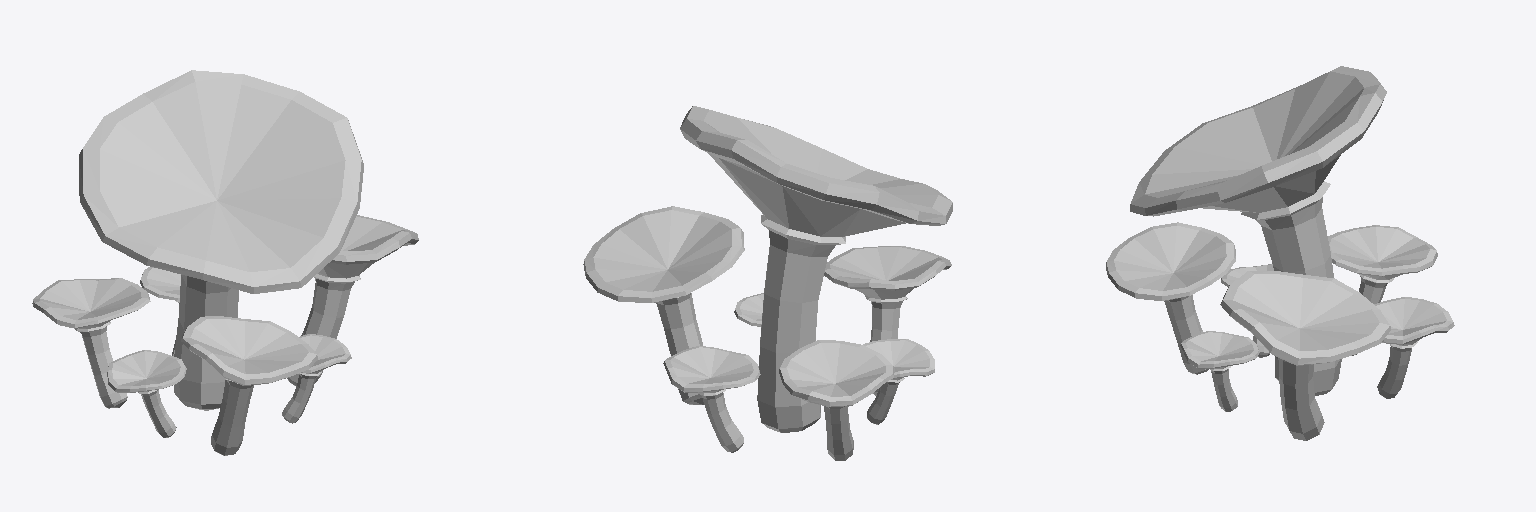
Rendered from Mushroom_03.obj.
The picture shows the model from 3 angles: view 1: azimuth 30°, elevation 25°; view 2: azimuth 150°, elevation 25°; view 3: azimuth 270°, elevation 25°; orthographic projection.
Visible parts, largest first — view 1: Mushroom_03_Circle.041; view 2: Mushroom_03_Circle.041; view 3: Mushroom_03_Circle.041.
Part boxes in pixels (bbox=[...]): Mushroom_03_Circle.041: bbox=[32, 70, 418, 455]; Mushroom_03_Circle.041: bbox=[583, 106, 952, 460]; Mushroom_03_Circle.041: bbox=[1106, 66, 1454, 440].
Size of the model in its own units: 0.7377 by 0.6579 by 0.6715.